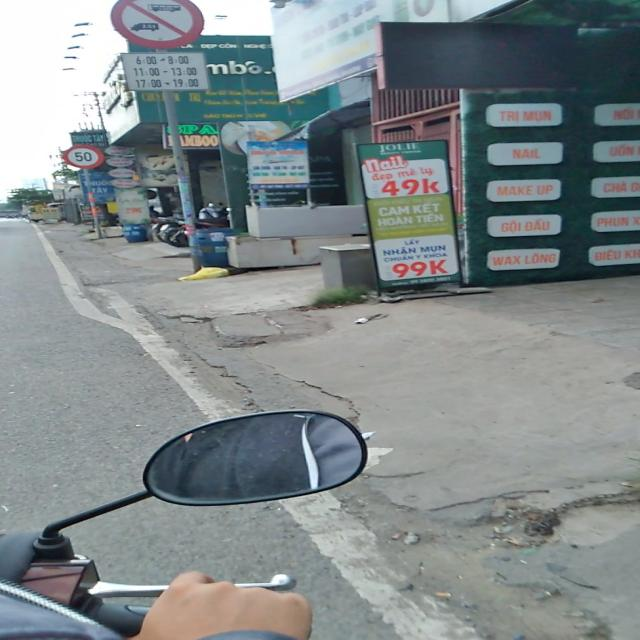Cam con lai: (110, 0, 204, 49)
Toc do toi da: (62, 145, 105, 169)
